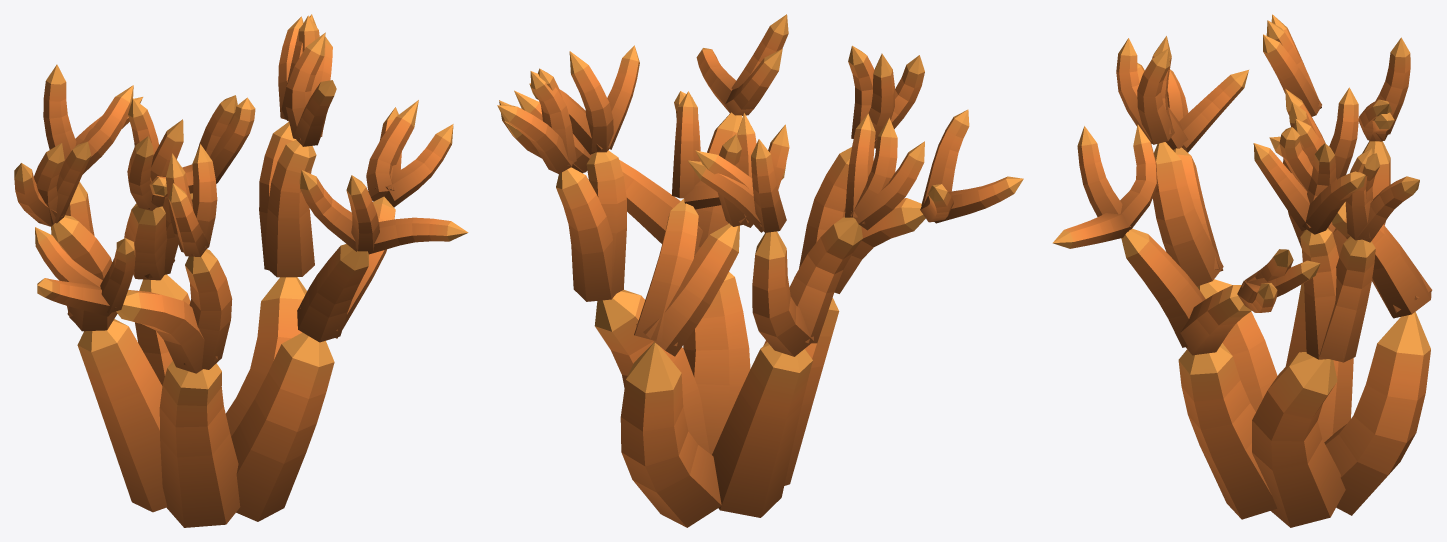
Rendered from StaghornCoral.glb.
3 views of the same model, side by side, from view 1: azimuth 30°, elevation 25°; view 2: azimuth 150°, elevation 25°; view 3: azimuth 270°, elevation 25° (orthographic).
Parts seen in each view (by area): view 1: StaghornCoral; view 2: StaghornCoral; view 3: StaghornCoral.
Part boxes in pixels (x1,y1,x2,y2): StaghornCoral: (14,14,468,527); StaghornCoral: (497,14,1023,527); StaghornCoral: (1052,14,1432,527).
Size of the model in its own units: 2.78 by 2.42 by 1.97.
1 material, 1 textured.
